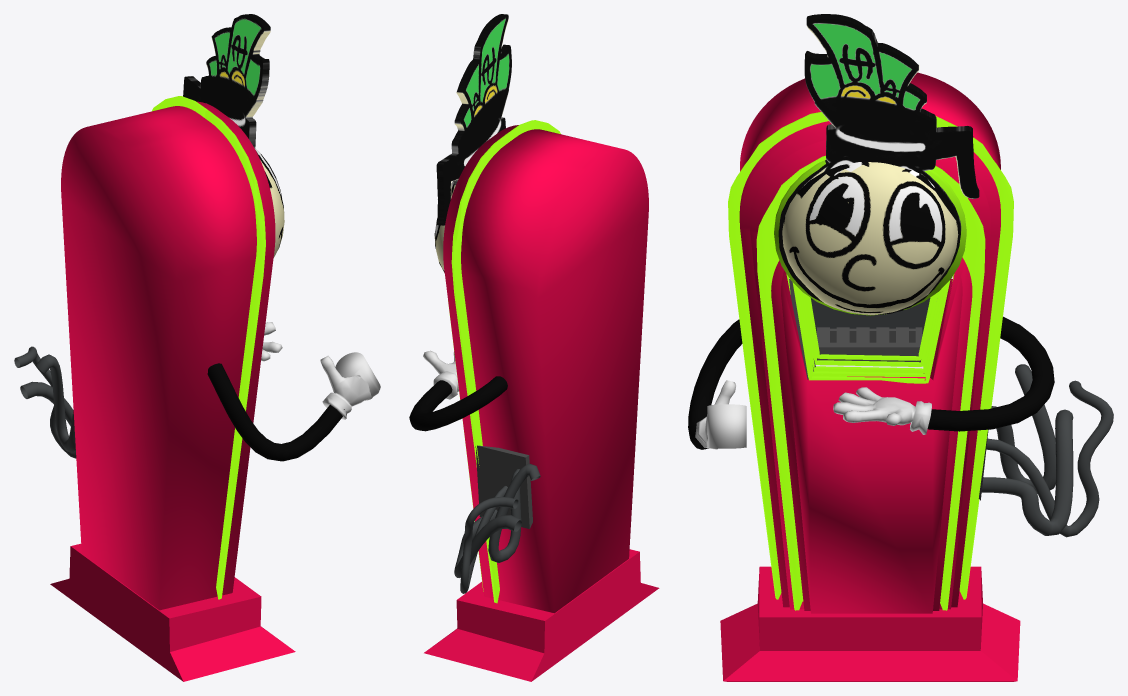
File: machine front.glb
The picture shows the model from 3 angles, left to right: view 1: azimuth 30°, elevation 25°; view 2: azimuth 150°, elevation 25°; view 3: azimuth 270°, elevation 25°; orthographic projection. The views are drawn at different scales.
Visible parts, largest first — view 1: tippy, stand, Sphere, glow line.002, arm 2, wire, Cylinder; view 2: tippy, stand, Sphere, wire, glow line.002, BézierCurve, socket, glove; view 3: tippy, Sphere, stand, glow line.002, glow line.003, wire, innard, BézierCurve, Plane, glove, Cylinder, arm 2.
Part boxes in pixels (x1=…): tippy: x1=61, y1=101, x2=275, y2=610; stand: x1=50, y1=543, x2=295, y2=681; Sphere: x1=183, y1=14, x2=284, y2=257; glow line.002: x1=152, y1=96, x2=265, y2=599; arm 2: x1=207, y1=363, x2=344, y2=461; wire: x1=14, y1=346, x2=76, y2=458; Cylinder: x1=320, y1=352, x2=380, y2=419; tippy: x1=443, y1=125, x2=648, y2=613; stand: x1=424, y1=549, x2=659, y2=681; Sphere: x1=434, y1=14, x2=511, y2=272; wire: x1=454, y1=463, x2=540, y2=593; glow line.002: x1=451, y1=120, x2=560, y2=603; BézierCurve: x1=409, y1=376, x2=507, y2=431; socket: x1=475, y1=445, x2=532, y2=528; glove: x1=423, y1=350, x2=458, y2=399; tippy: x1=739, y1=72, x2=1000, y2=613; Sphere: x1=778, y1=14, x2=979, y2=314; stand: x1=720, y1=566, x2=1020, y2=681; glow line.002: x1=728, y1=112, x2=1013, y2=599; glow line.003: x1=756, y1=155, x2=985, y2=610; wire: x1=981, y1=364, x2=1113, y2=537; innard: x1=774, y1=160, x2=966, y2=383; BézierCurve: x1=927, y1=316, x2=1054, y2=431; Plane: x1=817, y1=327, x2=922, y2=362; glove: x1=833, y1=387, x2=931, y2=434; Cylinder: x1=695, y1=380, x2=746, y2=449; arm 2: x1=688, y1=319, x2=742, y2=449.
Size of the model in its own units: 3.65 by 10.06 by 5.77.
Materials: 16 (2 with a texture image).
